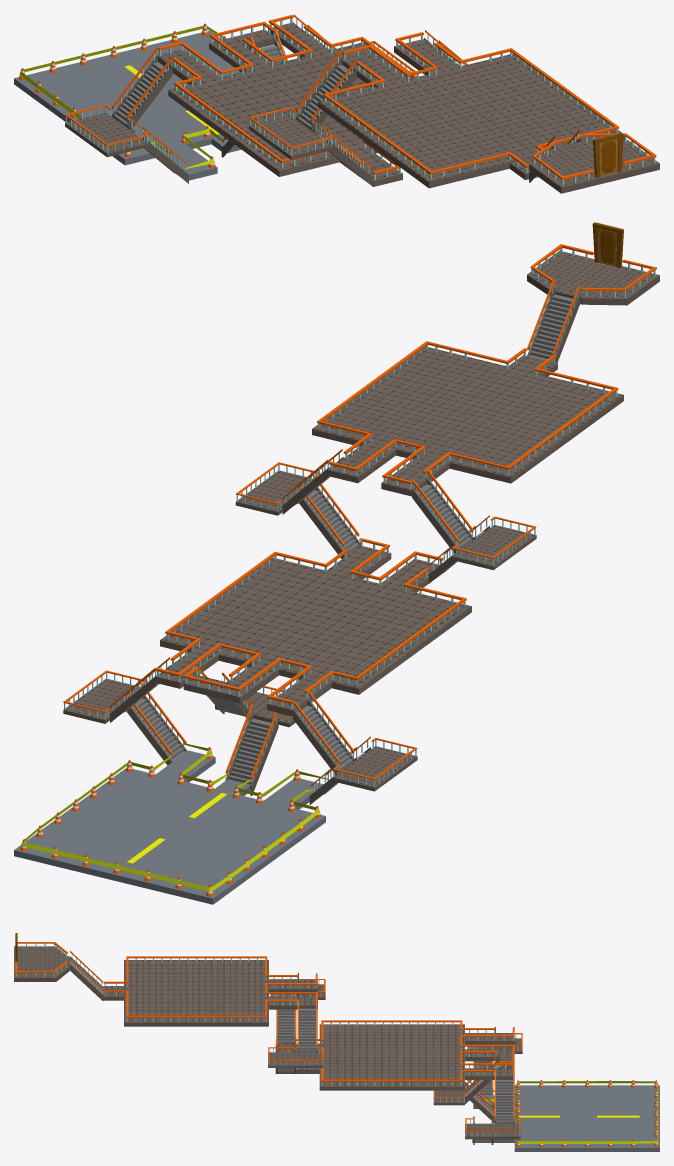
The model's file is Location 1.fbx.
3 views of the same model, one above another, from view 1: azimuth 30°, elevation 25°; view 2: azimuth 150°, elevation 25°; view 3: azimuth 270°, elevation 25° (orthographic). The views are drawn at different scales.
Parts seen in each view (by area): view 1: 3rd, 2nd, 1st, Railings.001, Railings.002, Final, Plane.004, Plane.006, Lenta, Railings.007, Steps 2.001, Steps 2.004 (+10 smaller); view 2: 2nd, 3rd, 1st, Railings.001, Railings.002, Final, Plane.004, Plane.006, Plane.005, Plane.007, Lenta, Plane.003 (+8 smaller); view 3: 2nd, 3rd, 1st, Railings.001, Railings.002, Final, Lenta, Plane.005, Plane.003, Plane.007, Steps 2.012, Steps 2.014 (+4 smaller).
Part boxes in pixels (bbox=[...]): 3rd: bbox=[318, 39, 624, 188]; 2nd: bbox=[158, 23, 412, 186]; 1st: bbox=[14, 30, 240, 180]; Railings.001: bbox=[158, 15, 416, 179]; Railings.002: bbox=[323, 32, 619, 179]; Final: bbox=[529, 140, 659, 193]; Plane.004: bbox=[65, 55, 188, 183]; Plane.006: bbox=[249, 58, 372, 186]; Lenta: bbox=[19, 25, 226, 168]; Railings.007: bbox=[532, 133, 656, 185]; Steps 2.001: bbox=[113, 62, 167, 126]; Steps 2.004: bbox=[297, 65, 351, 129]; 2nd: bbox=[155, 546, 471, 716]; 3rd: bbox=[312, 346, 623, 496]; 1st: bbox=[14, 750, 325, 904]; Railings.001: bbox=[156, 538, 466, 709]; Railings.002: bbox=[317, 341, 618, 489]; Final: bbox=[527, 250, 659, 305]; Plane.004: bbox=[293, 698, 417, 804]; Plane.006: bbox=[412, 477, 536, 583]; Plane.005: bbox=[63, 665, 187, 765]; Plane.007: bbox=[235, 457, 360, 558]; Lenta: bbox=[21, 743, 327, 891]; Plane.003: bbox=[206, 681, 295, 795]; 2nd: bbox=[275, 1024, 514, 1090]; 3rd: bbox=[103, 960, 317, 1026]; 1st: bbox=[472, 1085, 659, 1151]; Railings.001: bbox=[276, 1020, 514, 1085]; Railings.002: bbox=[104, 956, 317, 1021]; Final: bbox=[14, 946, 69, 981]; Lenta: bbox=[484, 1081, 658, 1143]; Plane.005: bbox=[465, 1076, 520, 1144]; Plane.003: bbox=[433, 1059, 498, 1122]; Plane.007: bbox=[268, 1005, 323, 1073]; Steps 2.012: bbox=[496, 1080, 513, 1123]; Steps 2.014: bbox=[299, 1008, 315, 1052].
Size of the model in its own units: 3285 by 2915 by 9117.
